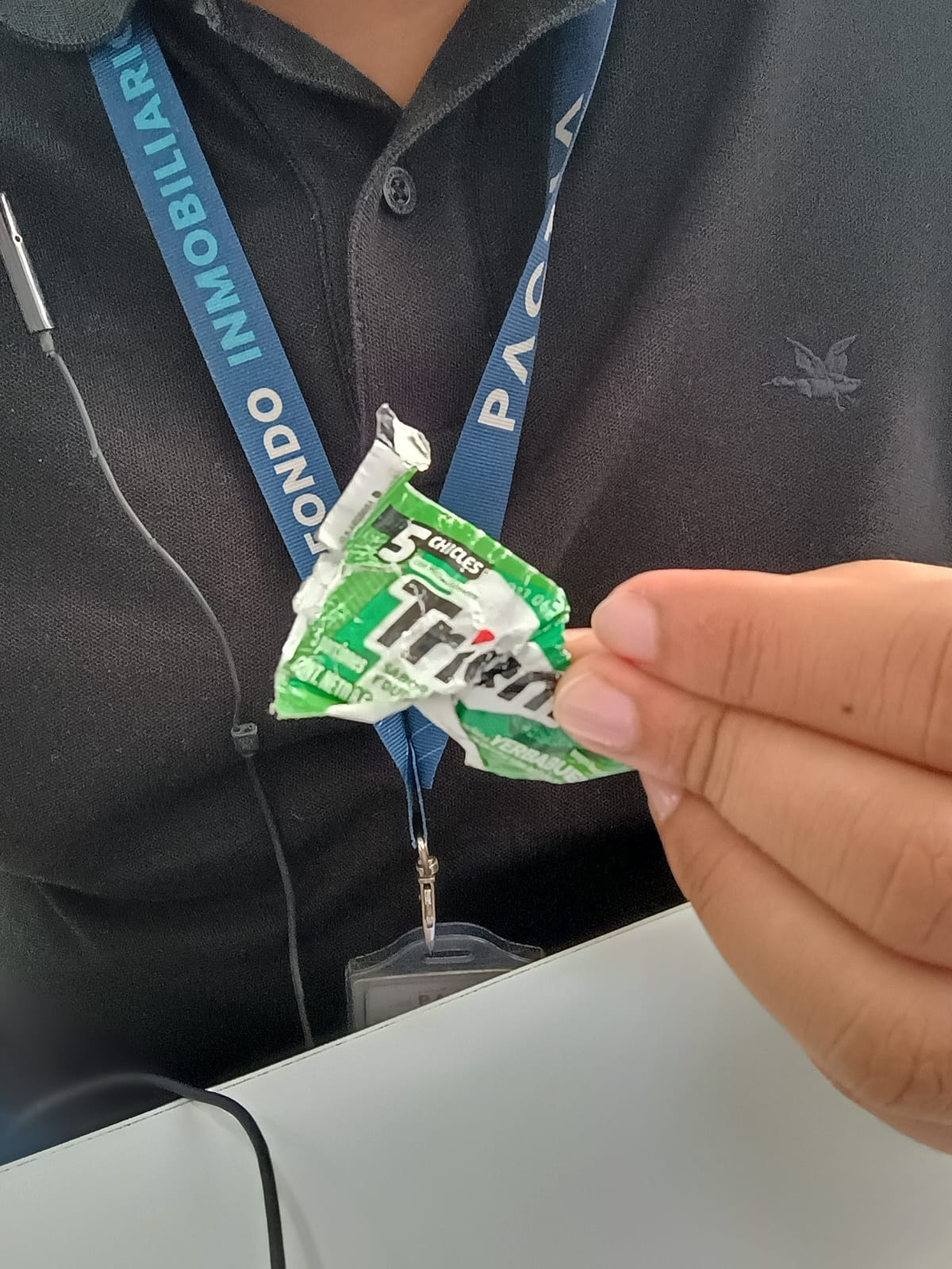Ordinario: (269, 405, 667, 782)
